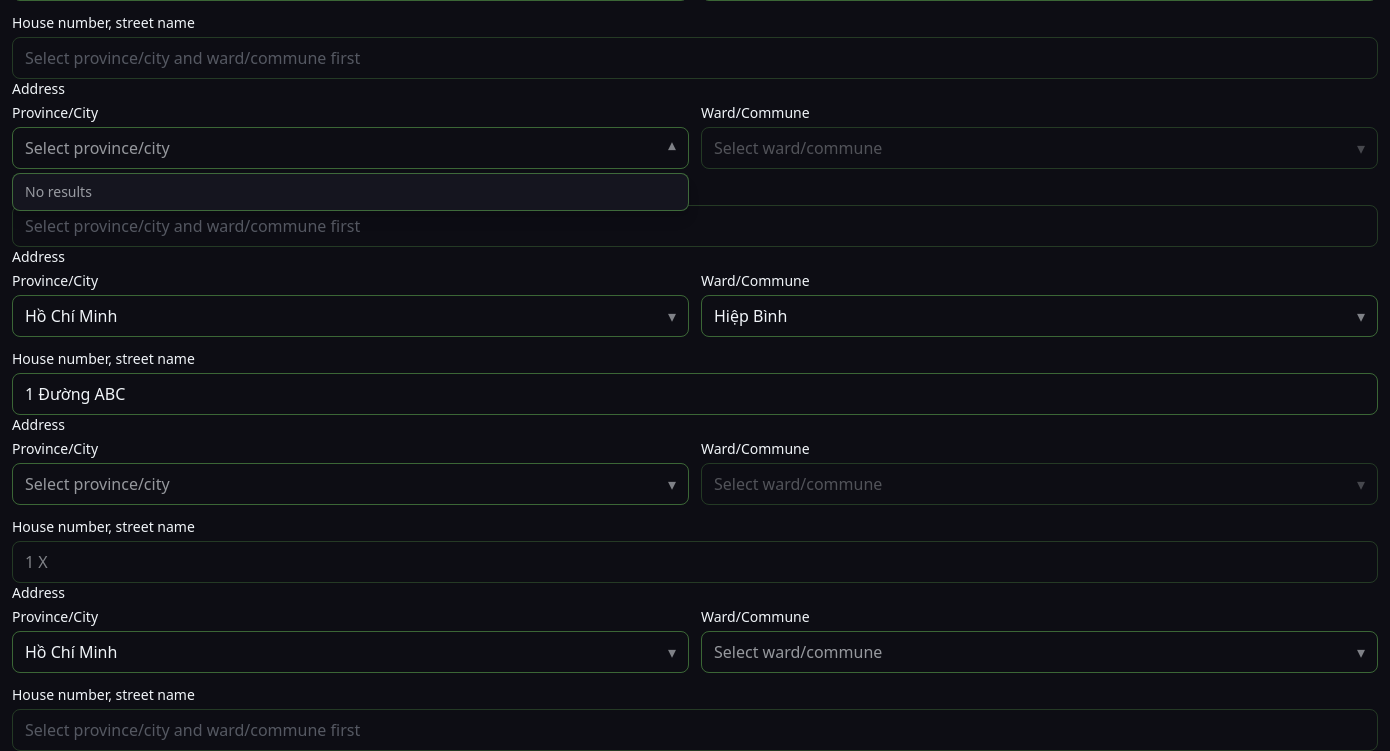
Test: AddressFields - resolving an existing order's stored address back to picker selections › does not override a province the user has since picked manually
(page scrolled)
Step 1. Click the button with aria-label "Province/City" → (71, 652), box [12,631,689,673]
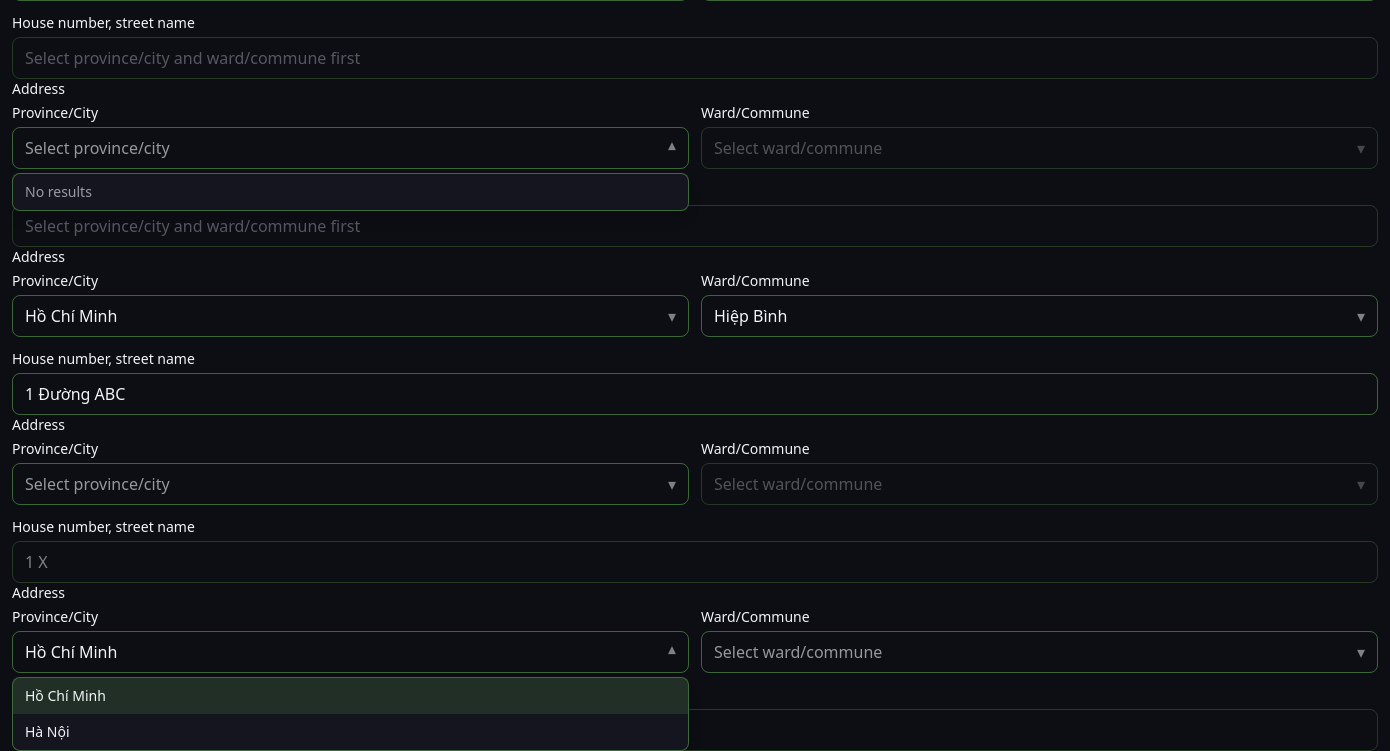
Step 2. Click the button "Hà Nội" → (47, 732), box [13,714,688,750]
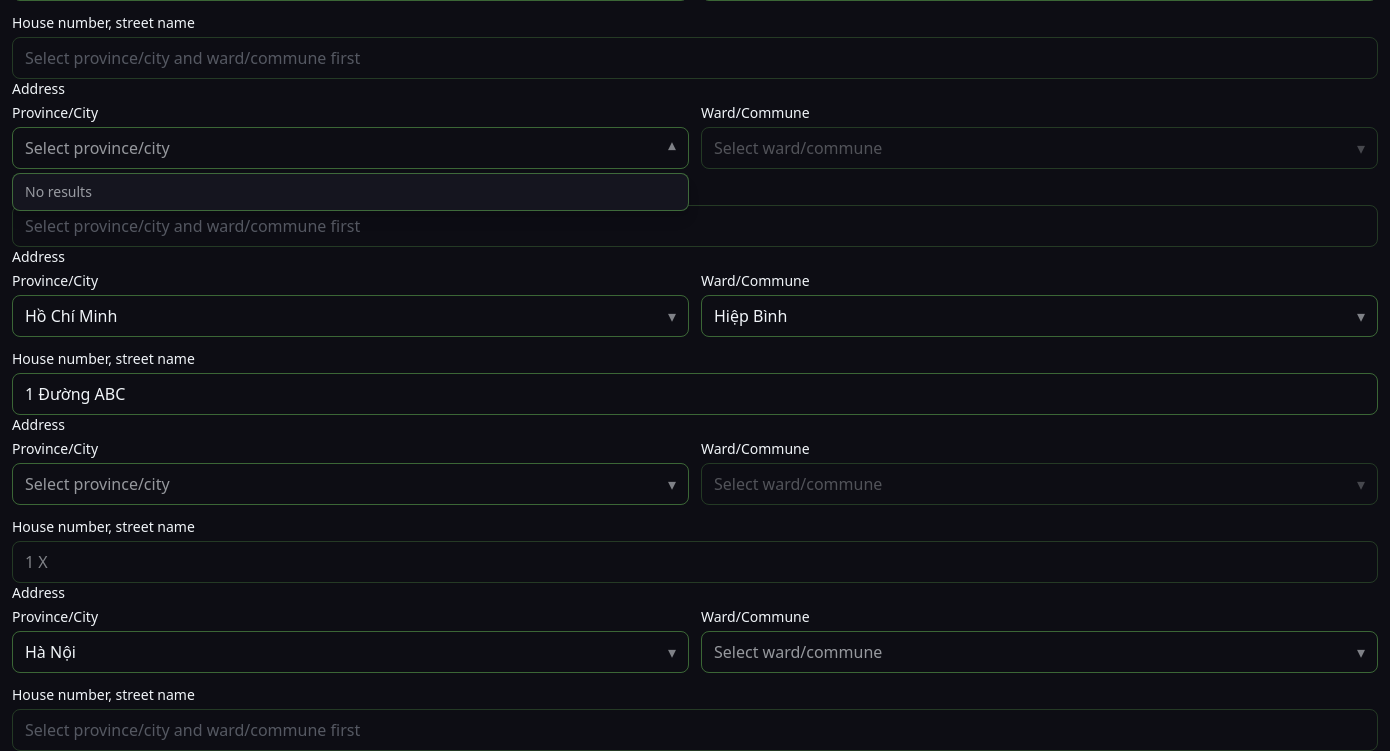
Now the button with aria-label "Province/City" shows "Hà Nội", box [12,631,689,673]
